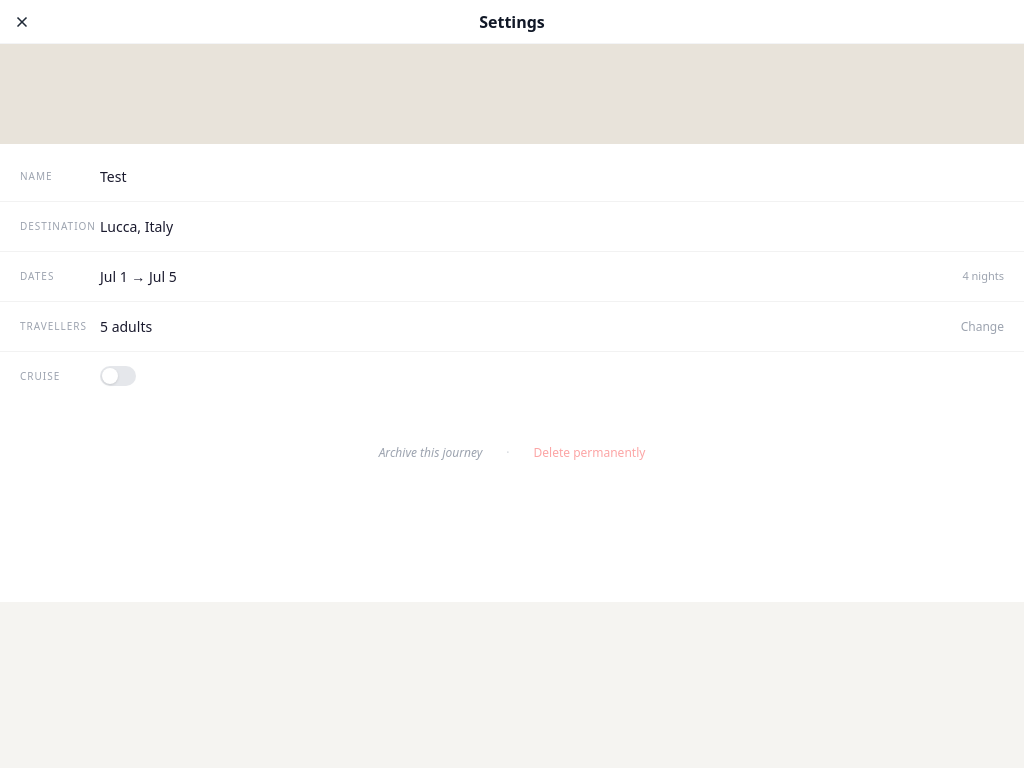
it: shortening a journey with plans on the dropped days › says so, deletes nothing, and offers to move them
Click the text "Dates": (37, 276) [20,269,54,283]
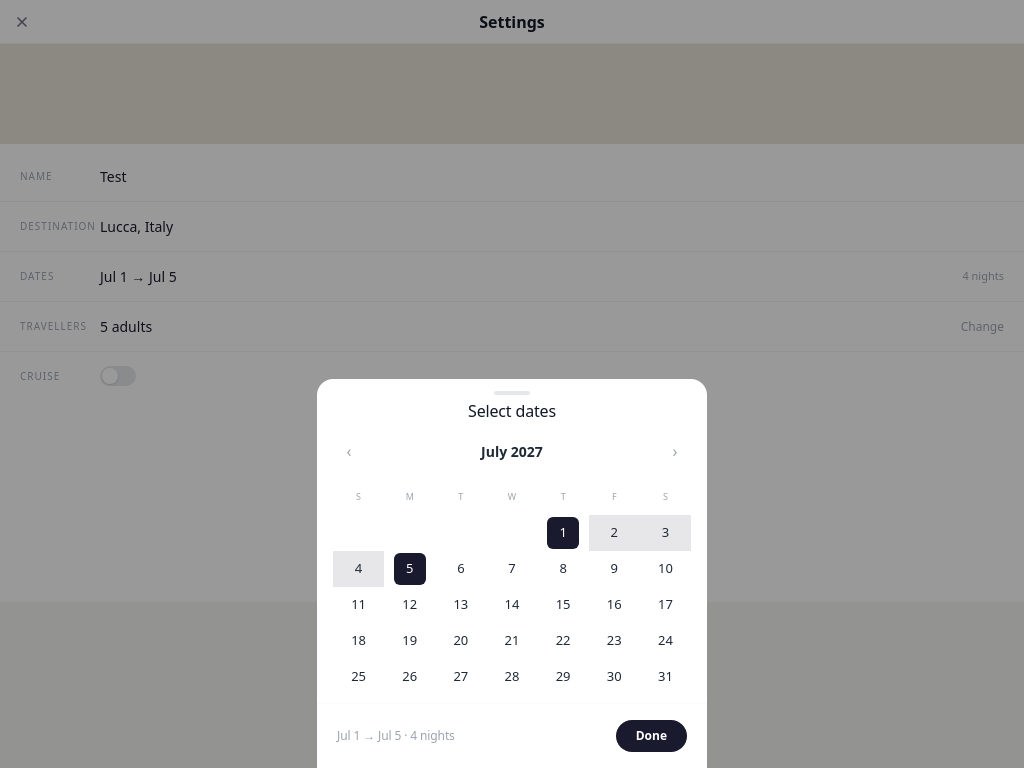
Click the button "1": (563, 533) [547,517,579,549]
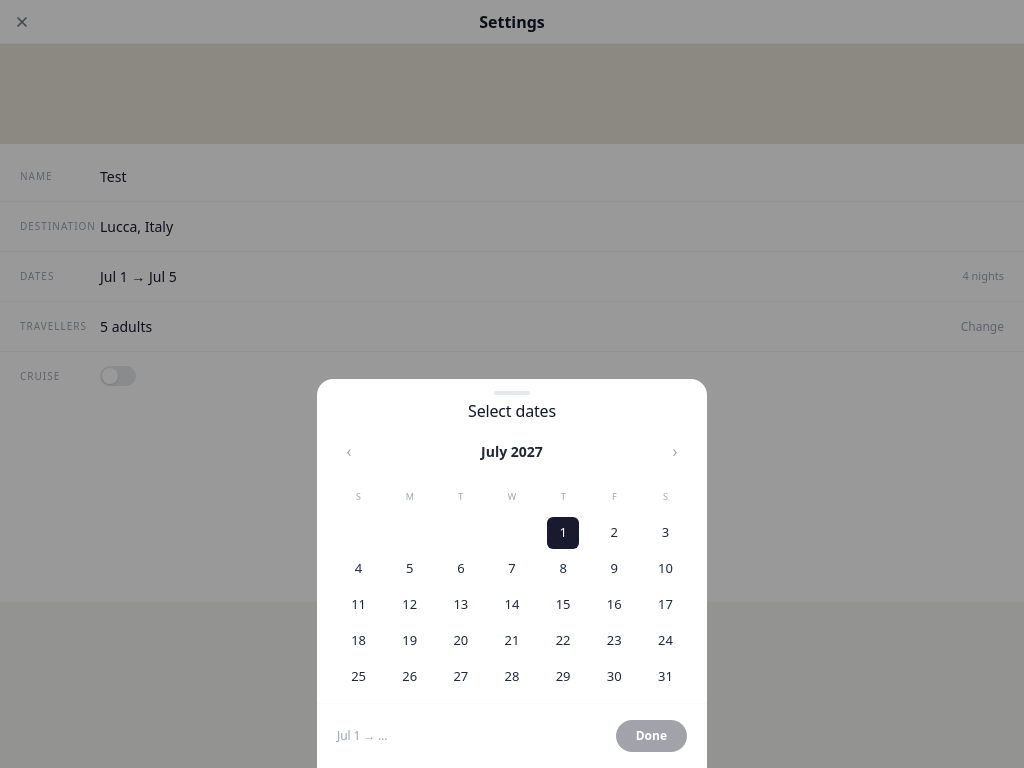
Click the button "3": (665, 533) [649,517,681,549]
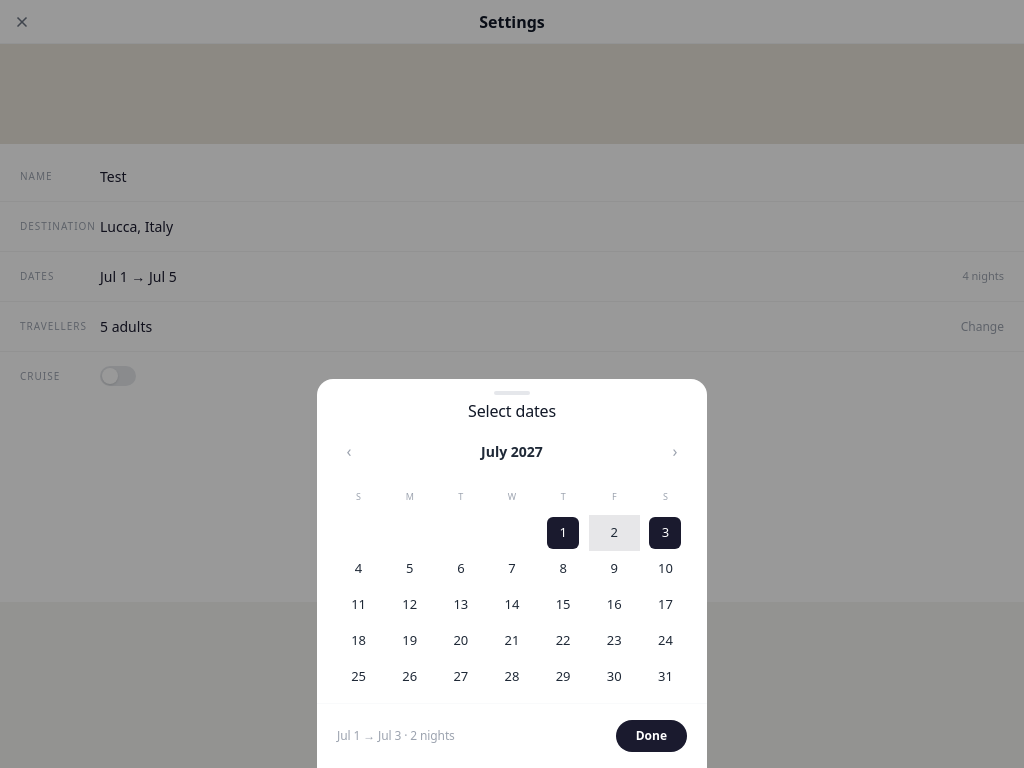
Click the button "Done": (651, 736) [616,720,687,752]
Wait 1600 ms
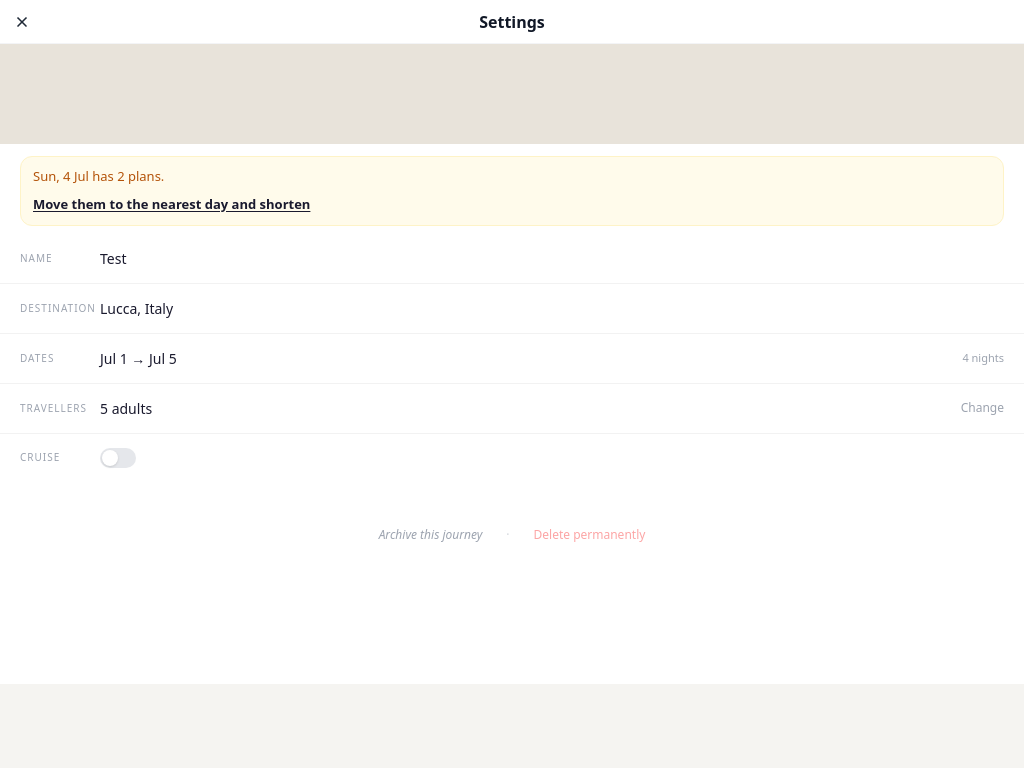
Expected: the text "Sun, 4 Jul has 2 plans." is shown, [33,167,164,185]
Expected: the button "Move them to the nearest day and shorten" is shown, [33,194,310,214]
